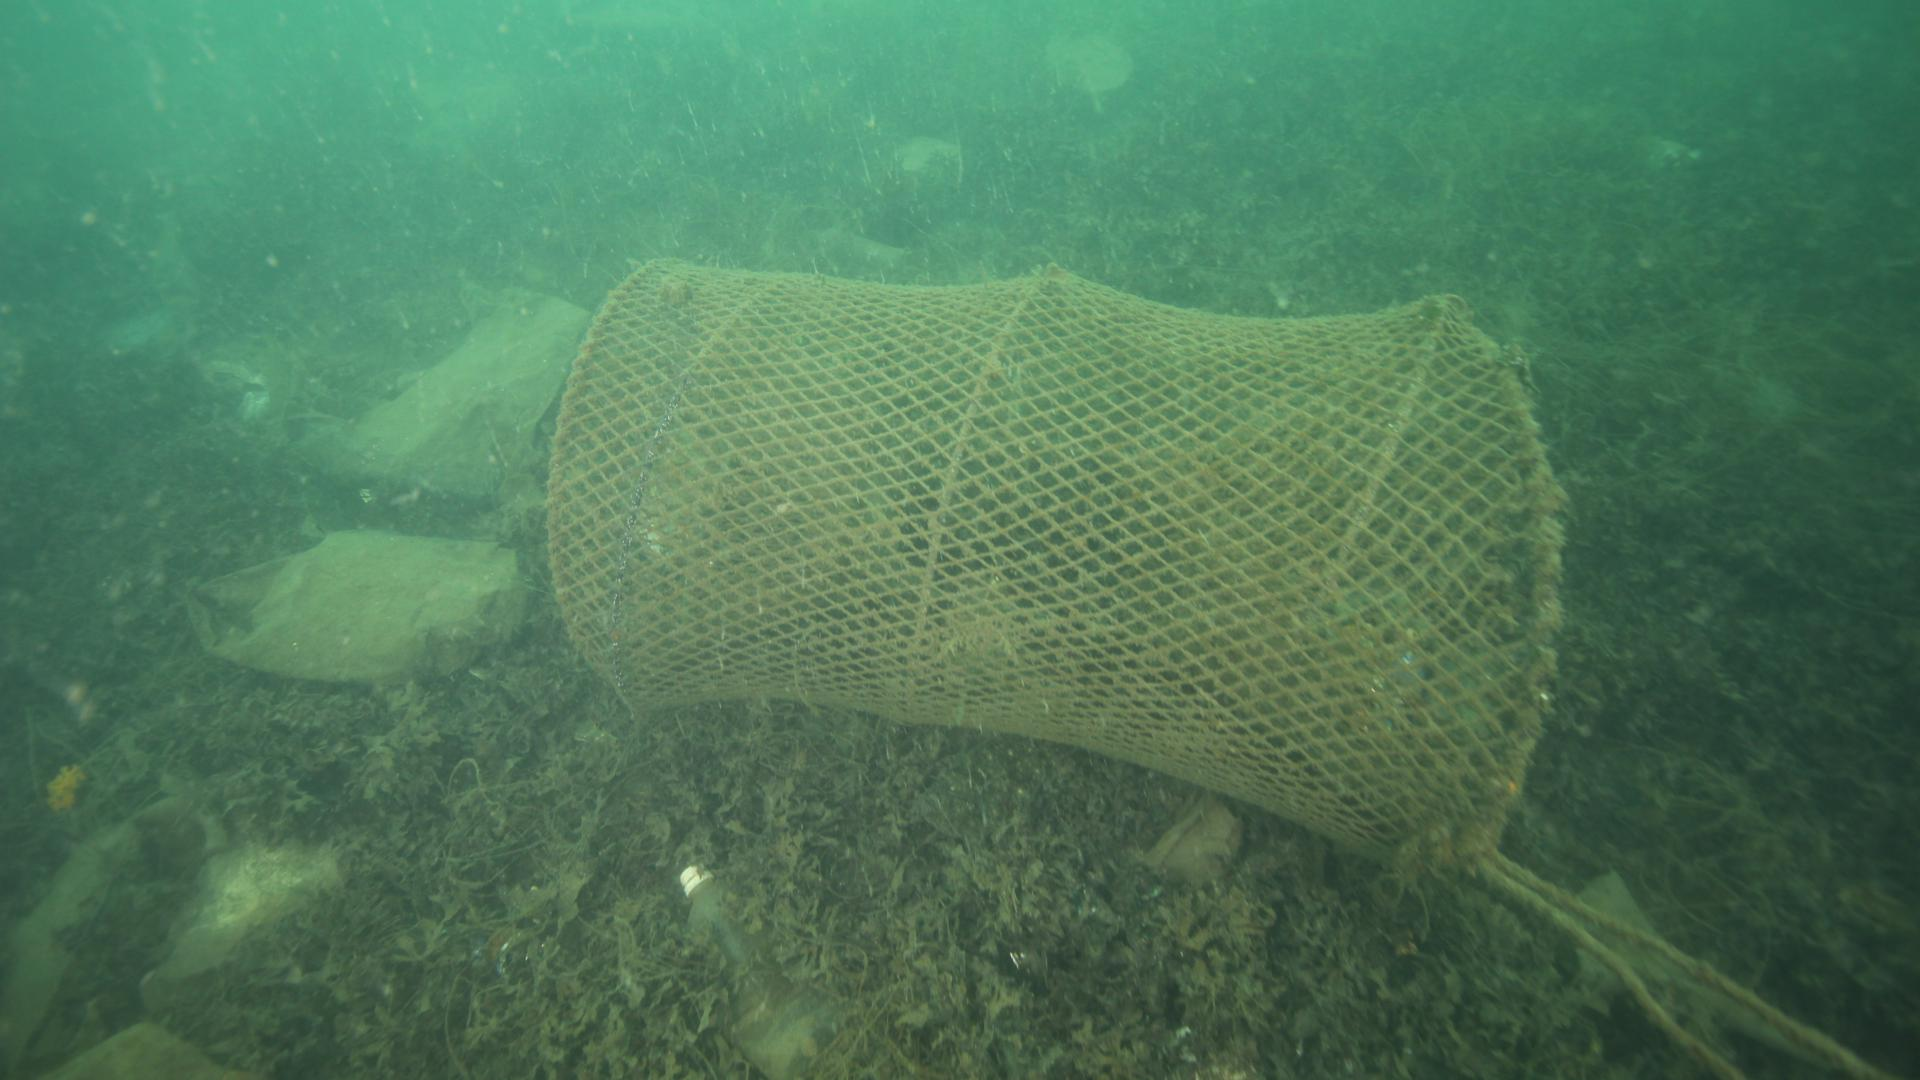bundle of ropes: (1487, 840, 1902, 1080)
spring fish trap: (535, 247, 1569, 894)
